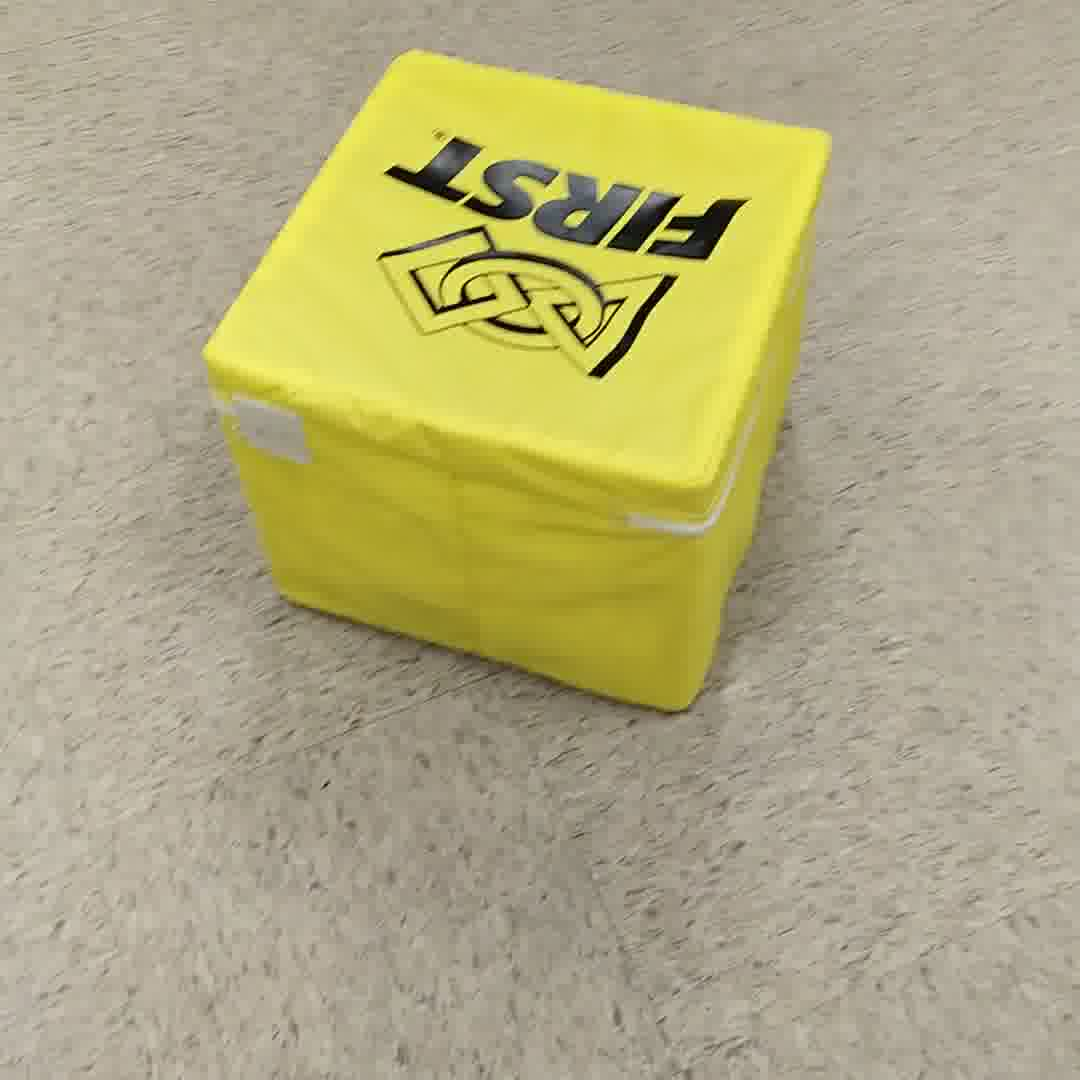box: (189, 29, 833, 705)
